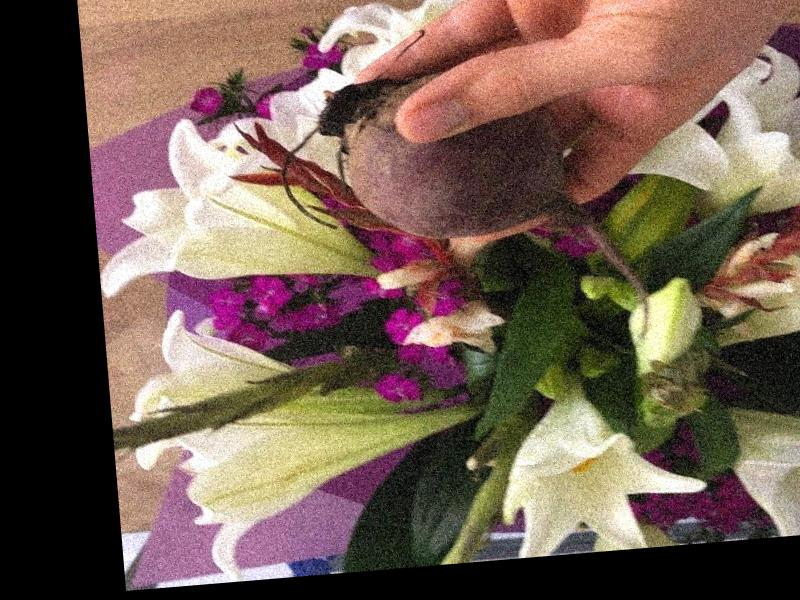Beet: (274, 57, 653, 370)
